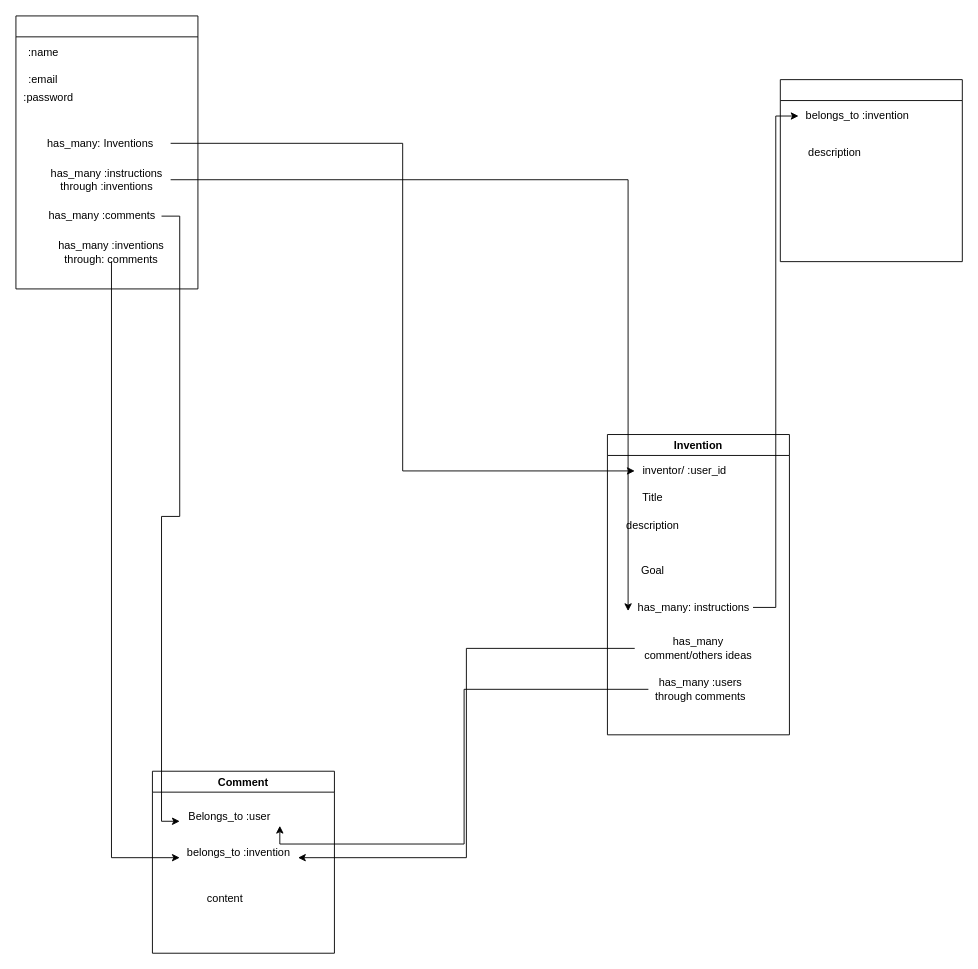
Some shapes in this 978 by 969 pixel diagram are drawn without their labels. The box of each missing label's shape, as (x1, y1, x2, y2) in pixels:
Instruction: (779, 79, 962, 262)
User: (15, 15, 198, 289)
